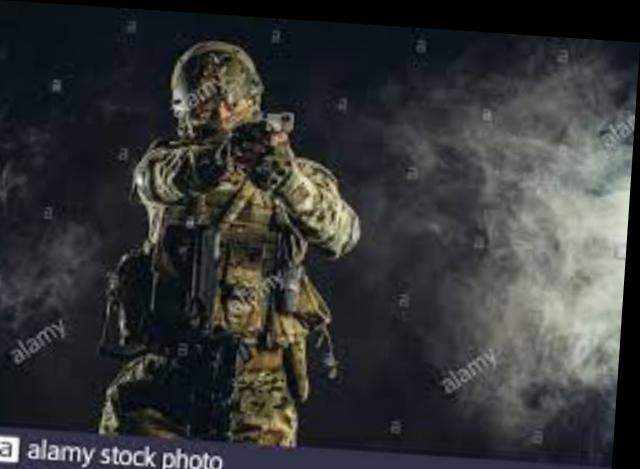other: (123, 36, 336, 432)
